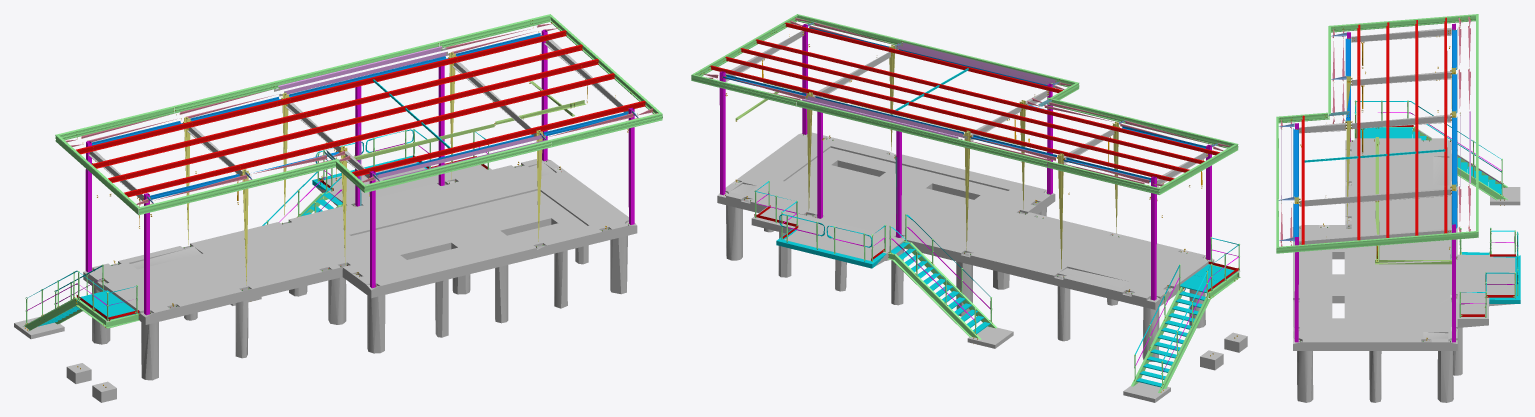
The model's file is substation_bay.glb.
The picture shows the model from 3 angles, left to right: view 1: azimuth 30°, elevation 25°; view 2: azimuth 150°, elevation 25°; view 3: azimuth 270°, elevation 25°; orthographic projection. The views are drawn at different scales.
Visible parts, largest first — view 1: body; view 2: body; view 3: body.
Part boxes in pixels (x1,y1,x2,y2): body: [14, 14, 662, 402]; body: [691, 14, 1247, 402]; body: [1276, 14, 1520, 402].
Size of the model in its own units: 17.97 by 7 by 8.13.
